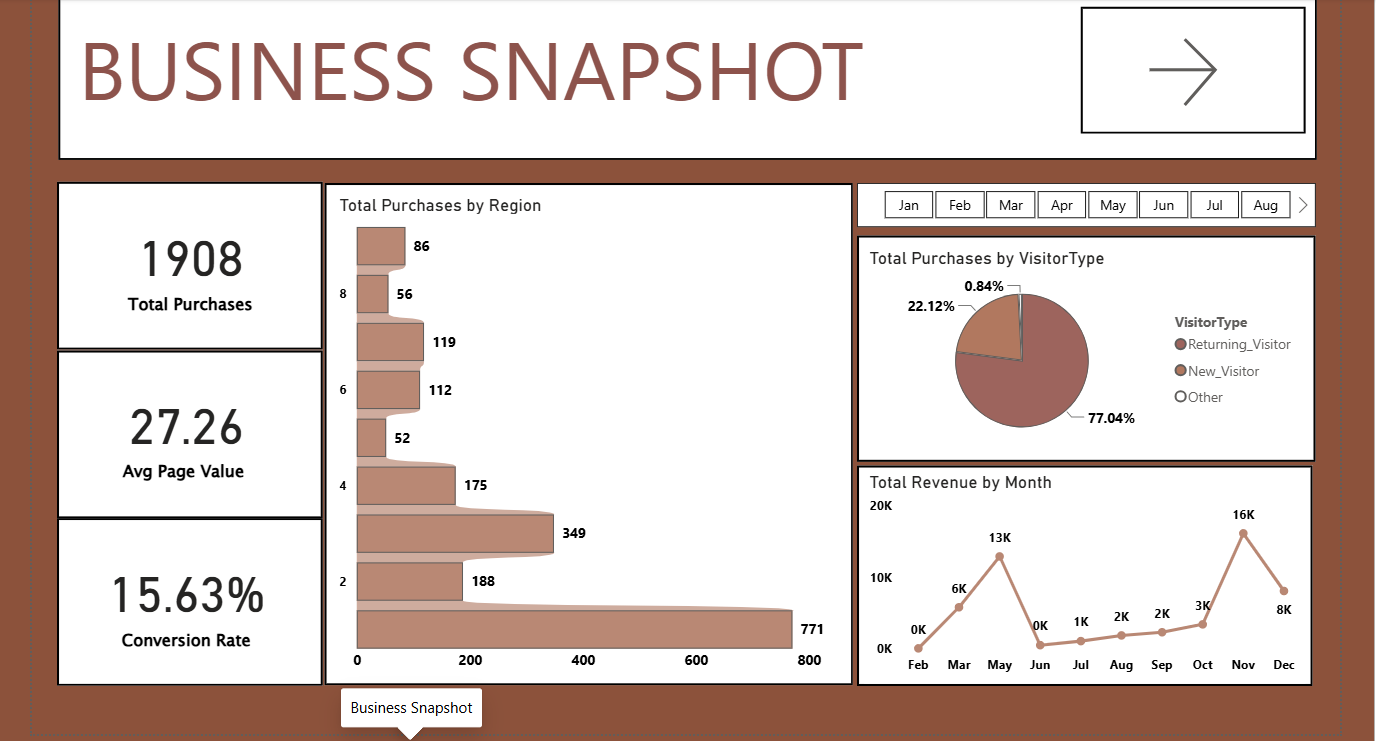

This screenshot's page, from the dashboard's own definition file:
{"tool":"powerbi","page":{"name":"Business Snapshot","canvas":[1280,720],"ordinal":1},"visuals":[{"type":"shape","box":[807.1,232.9,448.6,221.4],"z":0},{"type":"shape","box":[807.1,457.1,445.7,215.7],"z":1000},{"type":"shape","box":[285.7,181.4,517.1,491.4],"z":2000},{"type":"shape","box":[24.3,508.6,260,164.3],"z":3000},{"type":"shape","box":[24.3,344.3,260,164.3],"z":4000},{"type":"shape","box":[24.3,180,260,164.3],"z":5000},{"type":"lineChart","fields":{"Category":["Calendar.MonthName"],"Y":["Sheet1.Total Revenue Final"]},"box":[814.3,462.9,431.4,207.1],"z":6000},{"type":"card","fields":{"Values":["Sheet1.Total Purchases"]},"box":[41.4,191.4,227.1,140],"z":7000},{"type":"card","fields":{"Values":["Sheet1.Conversion Rate"]},"box":[40,524.3,221.4,132.9],"z":8000},{"type":"card","fields":{"Values":["Sheet1.Avg Page Value (Purchasers)"]},"box":[41.4,360,218.6,132.9],"z":9000},{"type":"barChart","fields":{"Category":["Sheet1.Region"],"Y":["Sheet1.Total Purchases"]},"box":[295.7,191.4,497.1,475.7],"z":10000},{"type":"slicer","fields":{"Values":["Calendar.MonthName"]},"box":[807.1,181.4,448.6,42.9],"z":11000},{"type":"shape","box":[25.7,0,1231.4,158.6],"z":12000},{"type":"shape","box":[1025.7,8.6,220,124.3],"z":13000},{"type":"pieChart","fields":{"Y":["Sheet1.Total Purchases"],"Category":["Sheet1.VisitorType"]},"box":[814.3,244.3,431.4,201.4],"z":14000},{"type":"textbox","box":[40,8.6,951.4,124.3],"z":15000},{"type":"actionButton","box":[1084.3,31.4,102.9,81.4],"z":16000}]}

Visuals, with their boxes on the page's 1280x720 design canvas (x1, y1, x2, y2). These are canvas units, not pixel positions in the 1376x741 screenshot, which may show the page scaled, cropped or inside an application window:
shape: box=[807, 233, 1256, 454]
shape: box=[807, 457, 1253, 673]
shape: box=[286, 181, 803, 673]
shape: box=[24, 509, 284, 673]
shape: box=[24, 344, 284, 509]
shape: box=[24, 180, 284, 344]
lineChart - Calendar.MonthName x Sheet1.Total Revenue Final: box=[814, 463, 1246, 670]
card - Sheet1.Total Purchases: box=[41, 191, 268, 331]
card - Sheet1.Conversion Rate: box=[40, 524, 261, 657]
card - Sheet1.Avg Page Value (Purchasers): box=[41, 360, 260, 493]
barChart - Sheet1.Region x Sheet1.Total Purchases: box=[296, 191, 793, 667]
slicer - Calendar.MonthName: box=[807, 181, 1256, 224]
shape: box=[26, 0, 1257, 159]
shape: box=[1026, 9, 1246, 133]
pieChart - Sheet1.Total Purchases x Sheet1.VisitorType: box=[814, 244, 1246, 446]
textbox: box=[40, 9, 991, 133]
actionButton: box=[1084, 31, 1187, 113]
